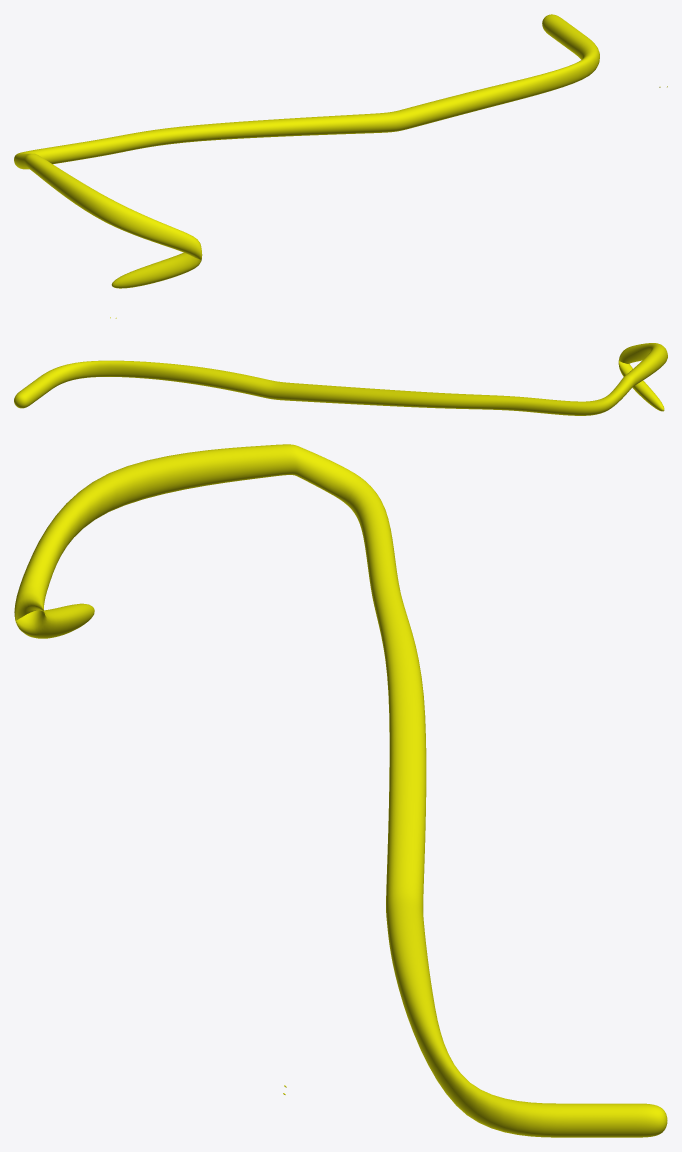
Rendered from conducto_deferente_lado_Izquierdo.fbx.
3 renders of one model, top to bottom at view 1: azimuth 30°, elevation 25°; view 2: azimuth 150°, elevation 25°; view 3: azimuth 270°, elevation 25°, orthographic. The views are drawn at different scales.
Parts seen in each view (by area): view 1: Cube_006; view 2: Cube_006; view 3: Cube_006.
Boxes of the visible parts, x1,y1,x2,y2 form: Cube_006: [14, 14, 599, 288]; Cube_006: [14, 343, 667, 415]; Cube_006: [14, 444, 667, 1137].
Bounding box in the file's own units: 27.5 × 4.6 × 14.68.
